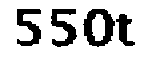0: (81, 6, 116, 53)
5: (5, 7, 47, 52), (48, 7, 83, 56)
t: (115, 11, 139, 50)
